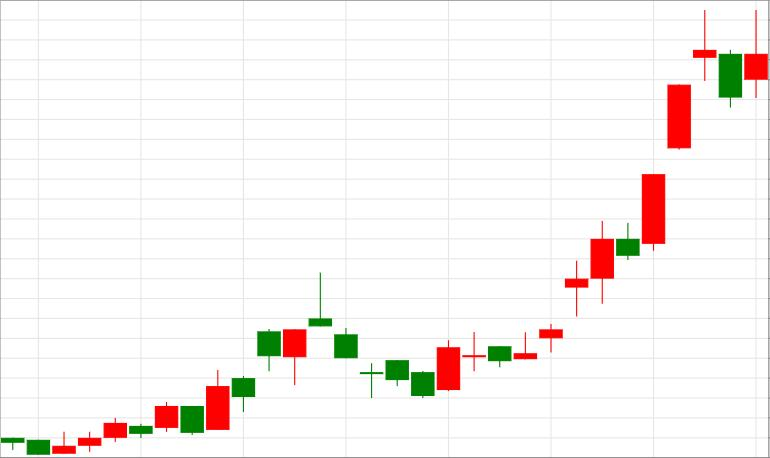evening_star_fall: (514, 11, 743, 359)
